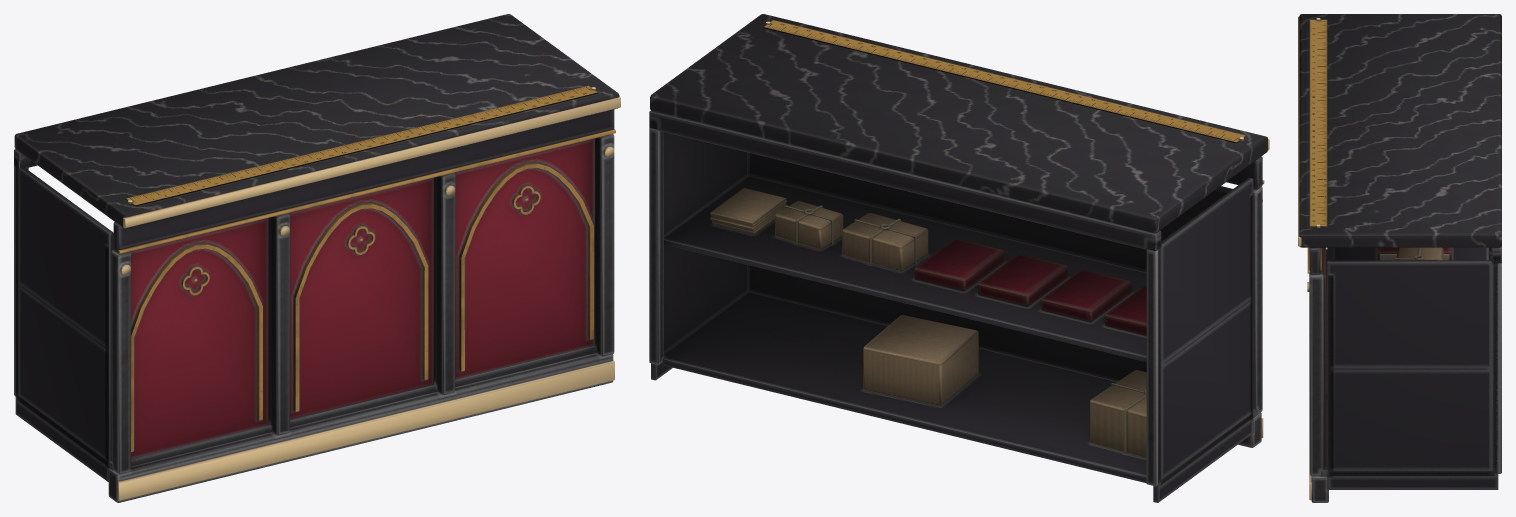
The model's file is ShopCounter.fbx.
3 views of the same model, side by side, from view 1: azimuth 30°, elevation 25°; view 2: azimuth 150°, elevation 25°; view 3: azimuth 270°, elevation 25° (orthographic). The views are drawn at different scales.
Visible parts, largest first — view 1: ShopCounter; view 2: ShopCounter; view 3: ShopCounter.
Part boxes in pixels (bbox=[...]): ShopCounter: bbox=[14, 14, 620, 502]; ShopCounter: bbox=[649, 14, 1269, 502]; ShopCounter: bbox=[1298, 14, 1501, 502].
Size of the model in its own units: 600 by 342 by 234.
